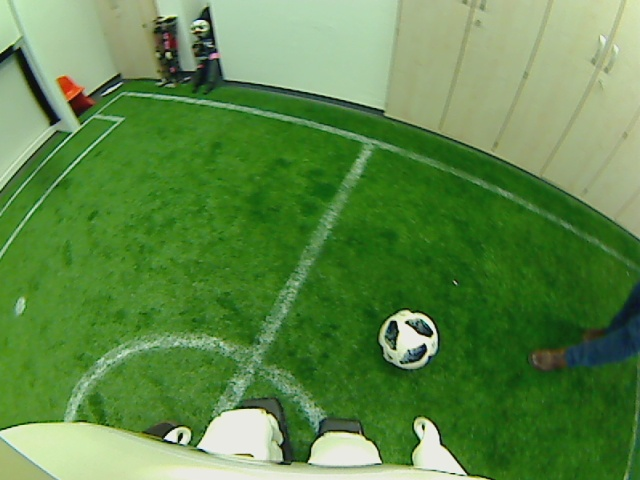ball: (376, 308, 442, 370)
